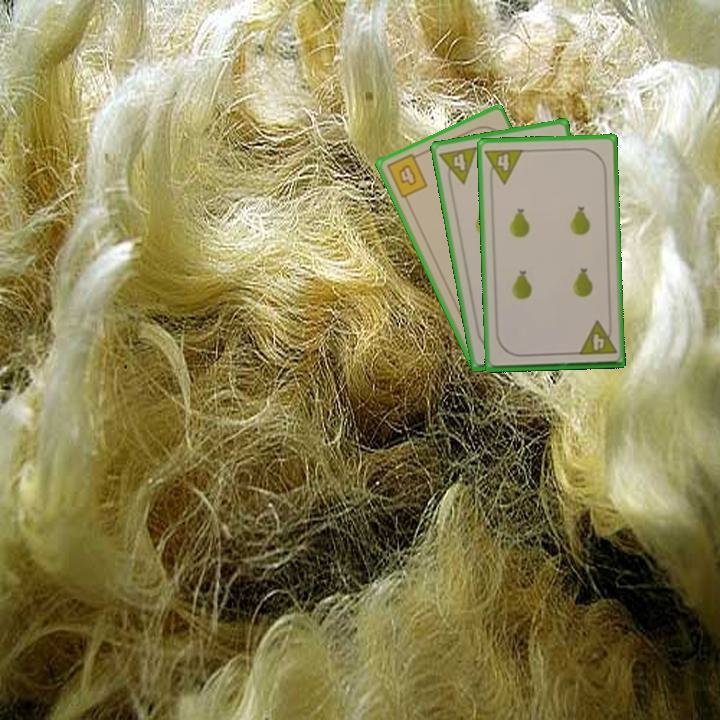4b: (383, 149, 430, 201)
4p: (436, 143, 480, 189), (482, 145, 526, 187), (575, 318, 619, 358)
